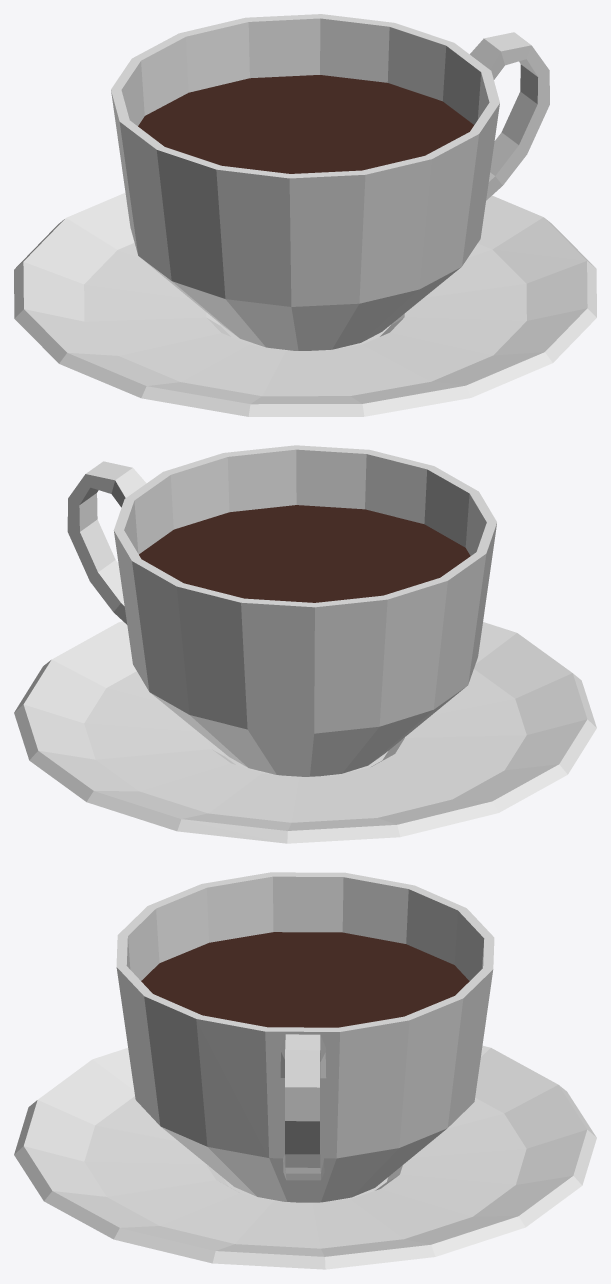
The model's file is Coffee.fbx.
3 views of the same model, one above another, from view 1: azimuth 30°, elevation 25°; view 2: azimuth 150°, elevation 25°; view 3: azimuth 270°, elevation 25° (orthographic).
Visible parts, largest first — view 1: Coffee; view 2: Coffee; view 3: Coffee.
Boxes of the visible parts, x1,y1,x2,y2 form: Coffee: (14, 14, 596, 416); Coffee: (14, 445, 596, 843); Coffee: (14, 872, 596, 1269).
Bounding box in the file's own units: 22.6 × 10.1 × 22.6.
